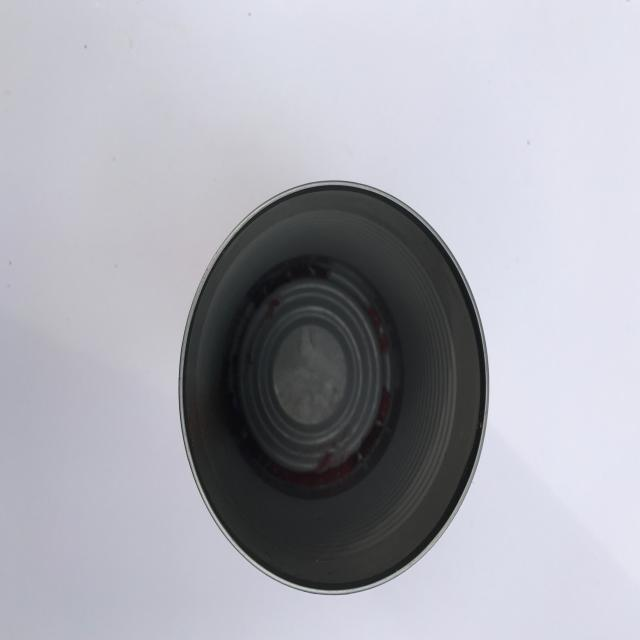metal: (178, 178, 490, 596)
